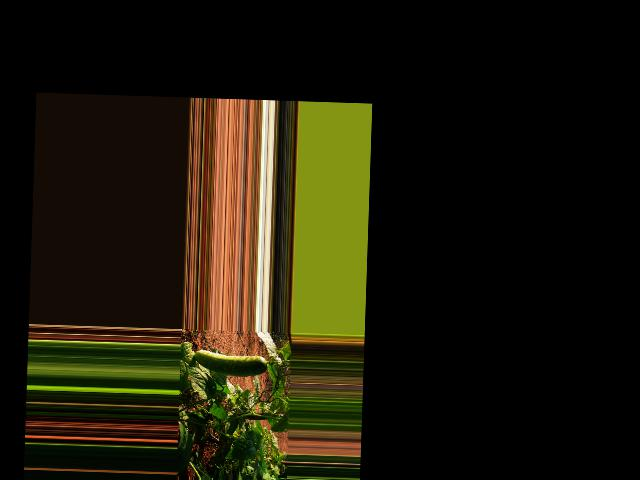cucumber: (193, 349, 267, 377)
